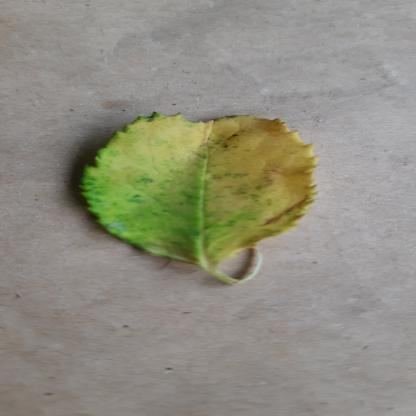black-spot: (79, 110, 339, 265)
